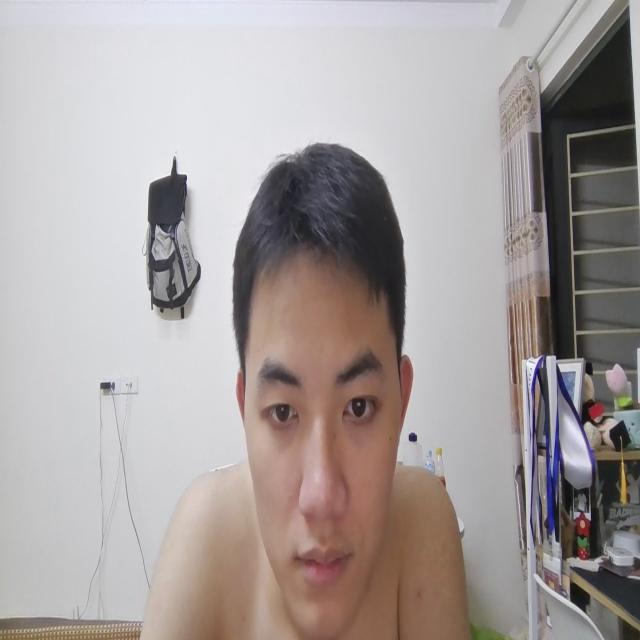student: (126, 139, 469, 640)
